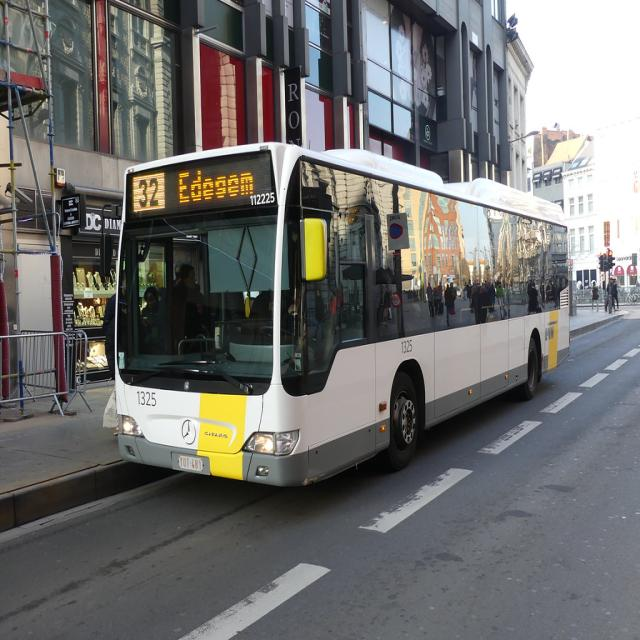bus-number: (132, 172, 166, 212)
